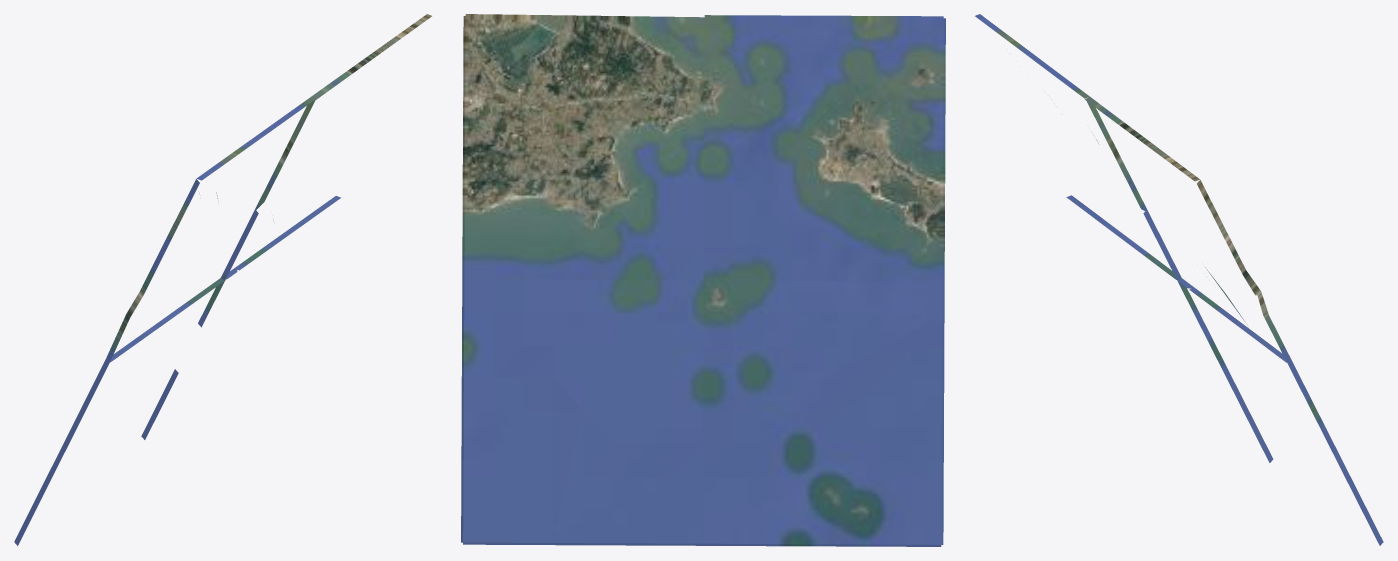
The picture shows the model from 3 angles, left to right: view 1: azimuth 30°, elevation 25°; view 2: azimuth 150°, elevation 25°; view 3: azimuth 270°, elevation 25°; orthographic projection. The views are drawn at different scales.
Size of the model in its own units: 39533 by 35823 by 32411.
1 material, 1 textured.
